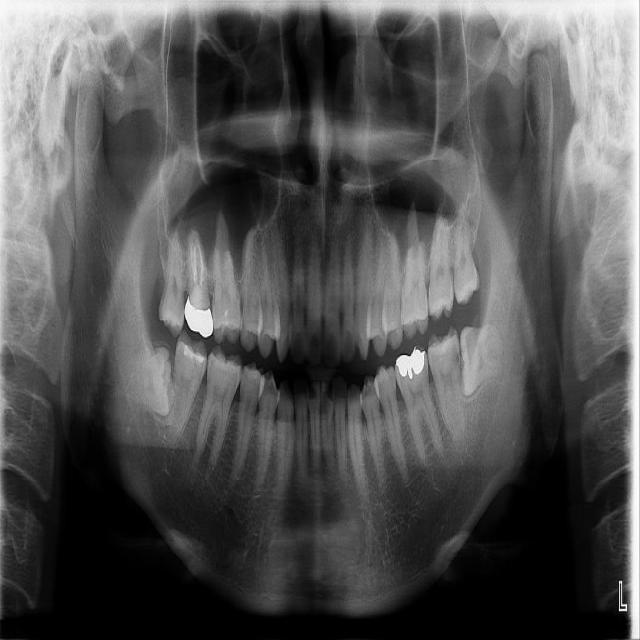Caries: (453, 344, 460, 365)
Crown: (185, 295, 216, 336)
Filling: (393, 349, 428, 381), (179, 341, 206, 364)
impacted tooth: (113, 345, 172, 415), (462, 326, 506, 398)
